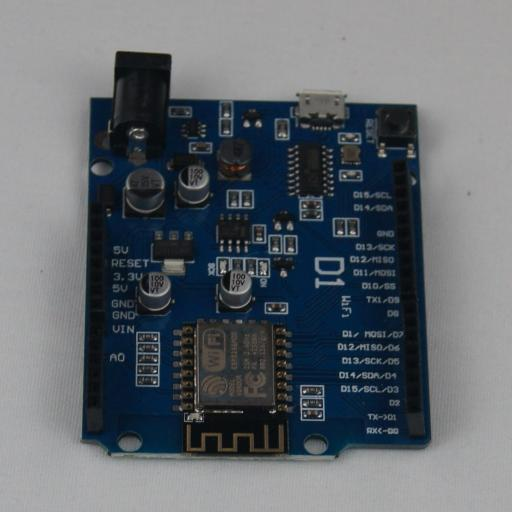Arduino Uno WiFi Shield: (80, 51, 431, 461)
